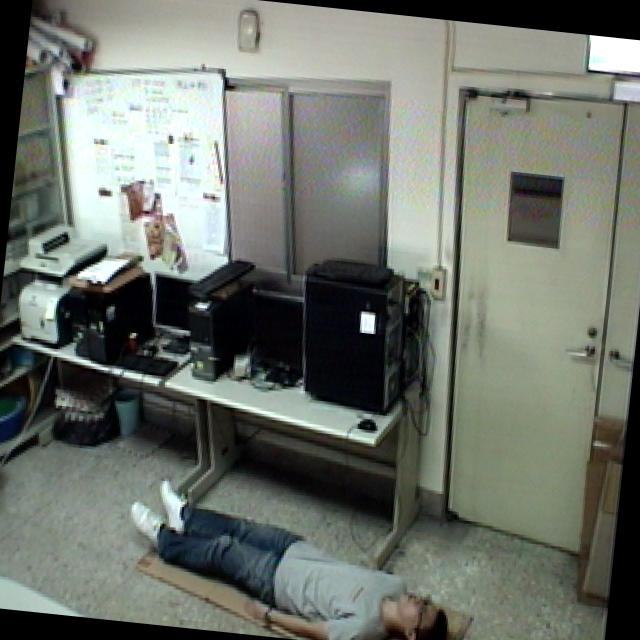lie: (115, 469, 469, 640)
